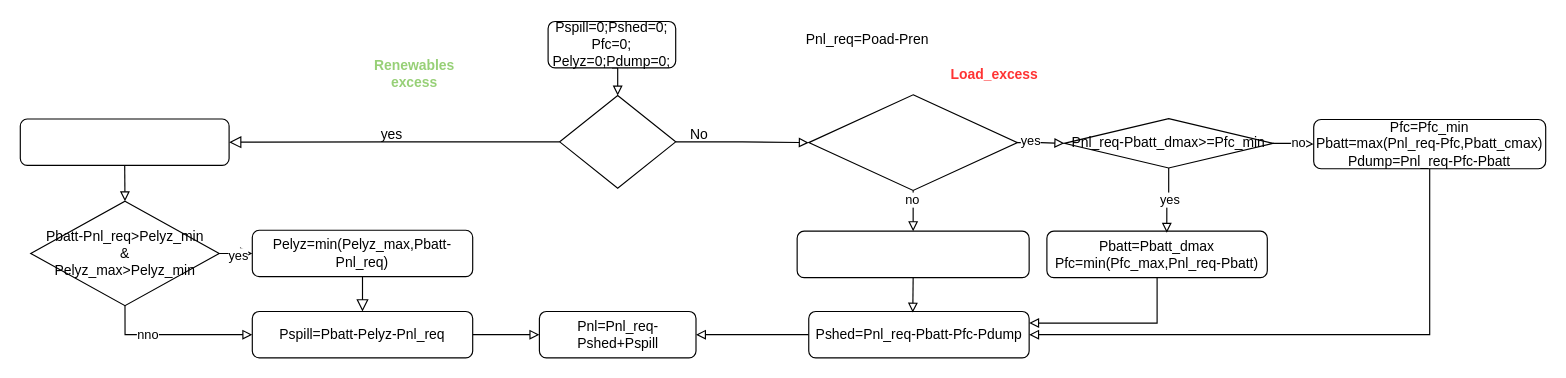
The diagram is 1566 pixels wide and 378 high, and some of its shapes have lost their labels. The shapes that lost their labels are listed below. From the top down, each one's centre as x and y in pixels, then its label:
At pixel 124 141: "Pbatt=max(Pbatt_cmax,Pnl_req)".
At pixel 617 141: "Pnl_req<0".
At pixel 913 142: "Pnl_req>Pbatt_dmax & Pfc_max>Pfc_min".
At pixel 912 254: "Pbatt=min(Pnl_req,Pbatt_dmax)".
